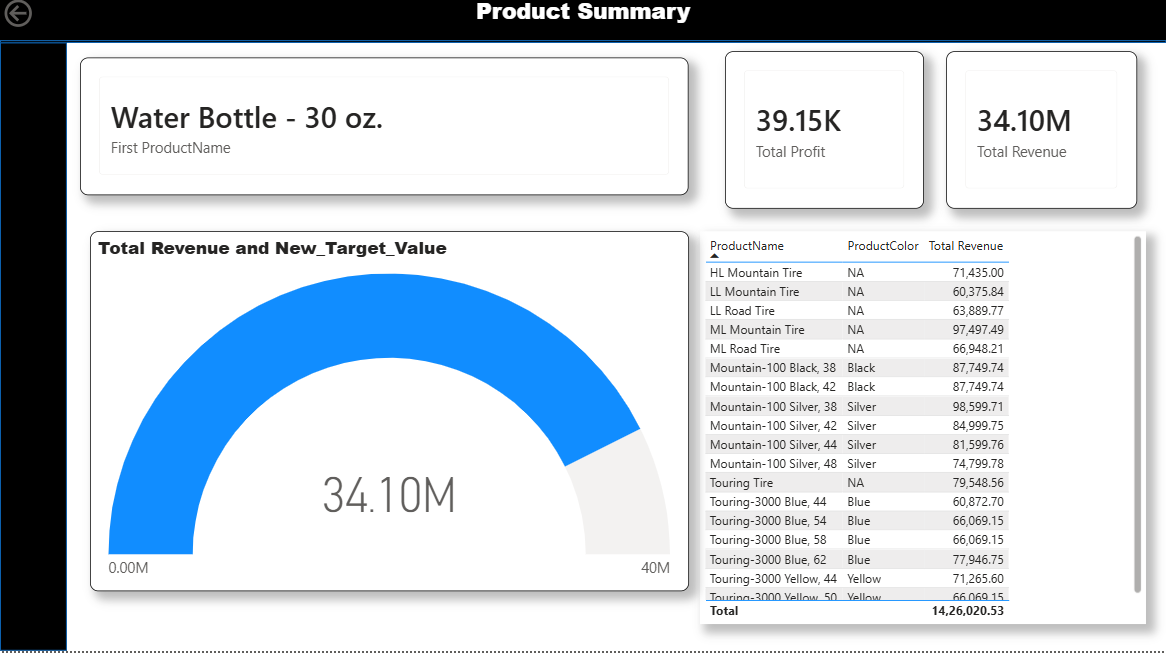

The dashboard page shown, as its layout file describes it:
{"tool":"powerbi","page":{"name":"product_summary","canvas":[1280,720],"ordinal":4},"visuals":[{"type":"shape","title":"Product Summary","box":[0,0,1280.3,52.6],"z":0},{"type":"shape","box":[0,52.6,73.4,667.7],"z":1000},{"type":"tableEx","fields":{"Values":["Product Lookup.ProductName","Product Lookup.ProductColor","Calculated Measures.Total Revenue"]},"box":[768.4,259.3,489.9,430.9],"z":2000},{"type":"actionButton","box":[0,0,100,40],"z":3000},{"type":"cardVisual","fields":{"Data":["Min(Product Lookup.ProductName)"]},"box":[87.8,68.6,668.3,150.9],"z":4000},{"type":"cardVisual","fields":{"Data":["Calculated Measures.Total Profit"]},"box":[795.9,61.7,218.2,172.9],"z":5000},{"type":"gauge","fields":{"MaxValue":["Calculated Measures.New_Target_Value"],"Y":["Calculated Measures.Total Revenue"]},"box":[98.8,259.3,657.3,395.2],"z":6000},{"type":"cardVisual","fields":{"Data":["Calculated Measures.Total Revenue"]},"box":[1038.8,61.7,209.9,172.9],"z":6001}]}

Visuals, with their boxes in screenshot pixels (x1, y1, x2, y2), scaled from the page's 1280x720 canvas onto the 1166x655 screenshot:
"Product Summary" shape: region(0, 0, 1165, 48)
shape: region(0, 48, 67, 654)
tableEx - Product Lookup.ProductName x Product Lookup.ProductColor: region(700, 236, 1146, 628)
actionButton: region(0, 0, 91, 36)
cardVisual - Min(Product Lookup.ProductName): region(80, 62, 689, 200)
cardVisual - Calculated Measures.Total Profit: region(725, 56, 924, 213)
gauge - Calculated Measures.New_Target_Value x Calculated Measures.Total Revenue: region(90, 236, 689, 595)
cardVisual - Calculated Measures.Total Revenue: region(946, 56, 1137, 213)
